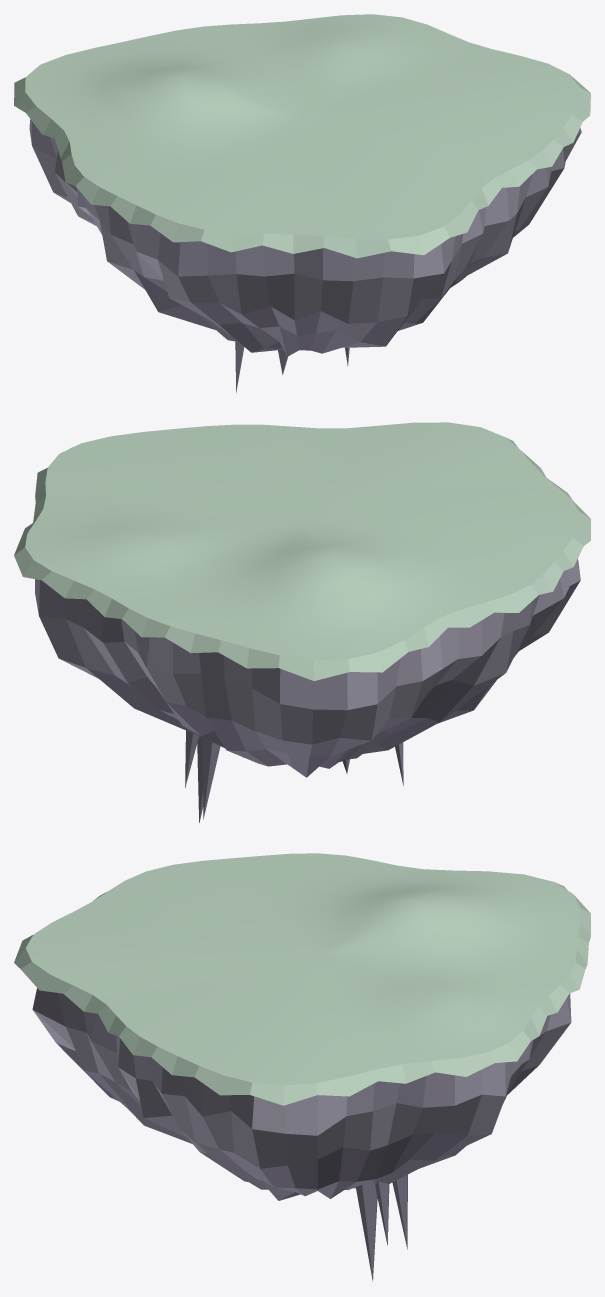
The model's file is island_main.glb.
The picture shows the model from 3 angles, top to bottom: view 1: azimuth 30°, elevation 25°; view 2: azimuth 150°, elevation 25°; view 3: azimuth 270°, elevation 25°; orthographic projection. The views are drawn at different scales.
Visible parts, largest first — view 1: Island-col; view 2: Island-col; view 3: Island-col.
Part boxes in pixels (x1,y1,x2,y2): Island-col: (14, 14, 590, 393); Island-col: (14, 422, 590, 822); Island-col: (14, 853, 590, 1281).
Size of the model in its own units: 38.69 by 23.21 by 39.07.
